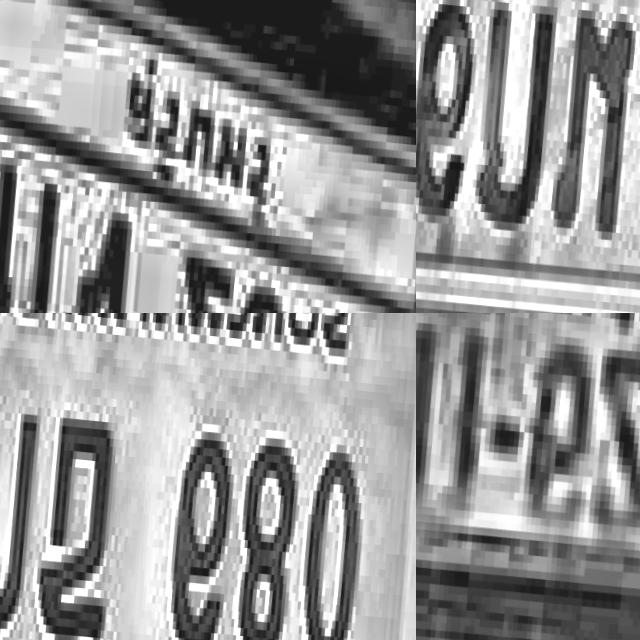license-plate: (0, 313, 416, 640), (0, 0, 416, 313), (416, 313, 640, 635), (416, 0, 640, 313)
